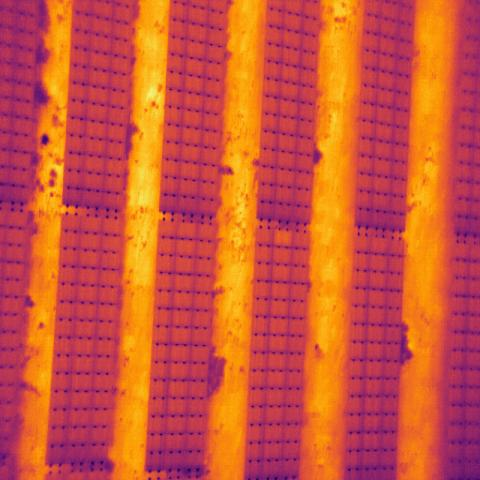fault: (274, 229, 292, 248)
